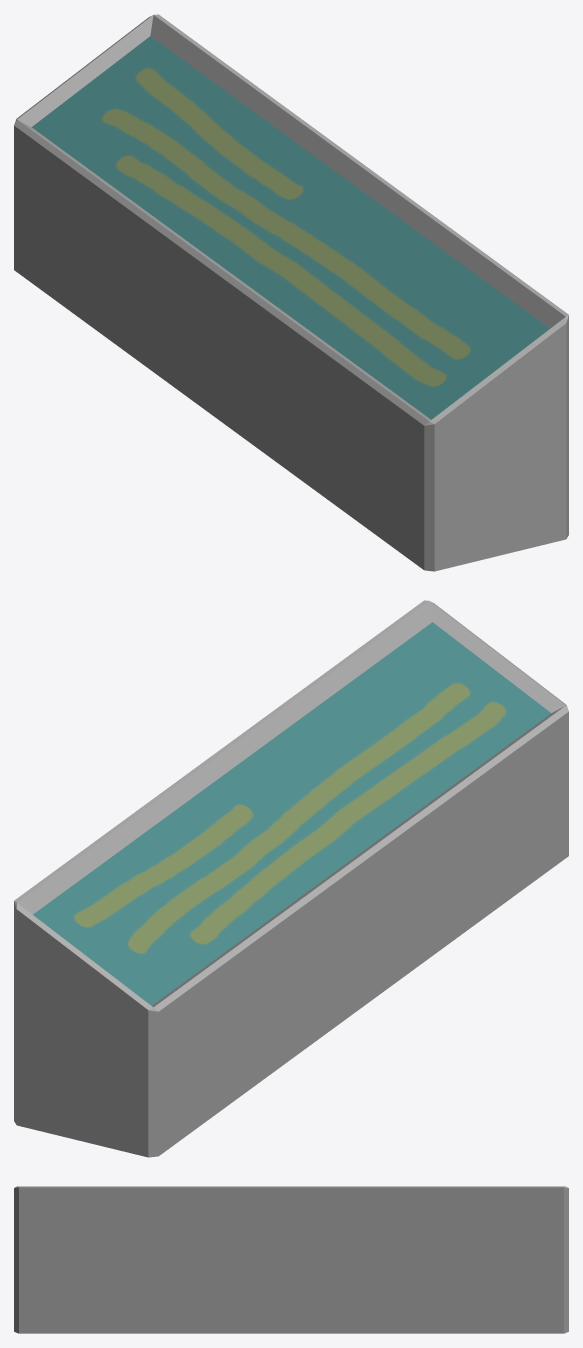
The model's file is 控制台.fbx.
3 views of the same model, one above another, from view 1: azimuth 30°, elevation 25°; view 2: azimuth 150°, elevation 25°; view 3: azimuth 270°, elevation 25° (orthographic). The views are drawn at different scales.
Parts seen in each view (by area): view 1: 立方体; view 2: 立方体; view 3: 立方体.
Boxes of the visible parts, x1=… form: 立方体: x1=14, y1=14, x2=568, y2=571; 立方体: x1=14, y1=600, x2=568, y2=1157; 立方体: x1=14, y1=1186, x2=568, y2=1333.
Size of the model in its own units: 100 by 146 by 500.
Materials: 2 (1 with a texture image).
